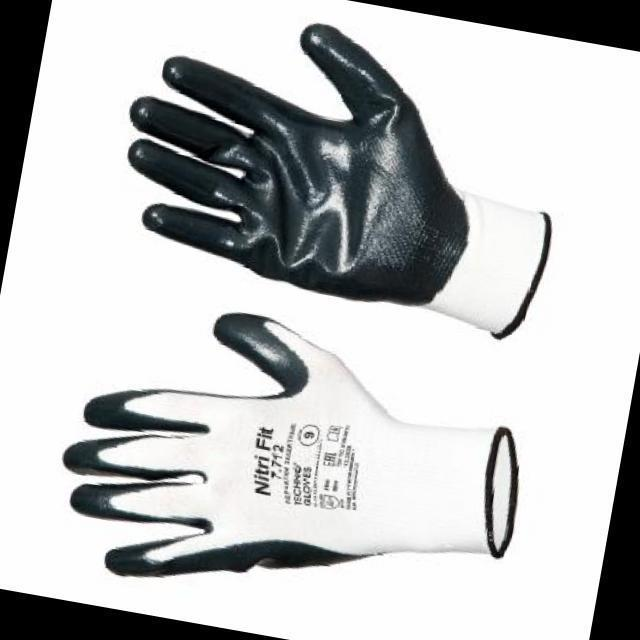gloved_hand: (18, 279, 548, 638), (70, 0, 585, 354)
